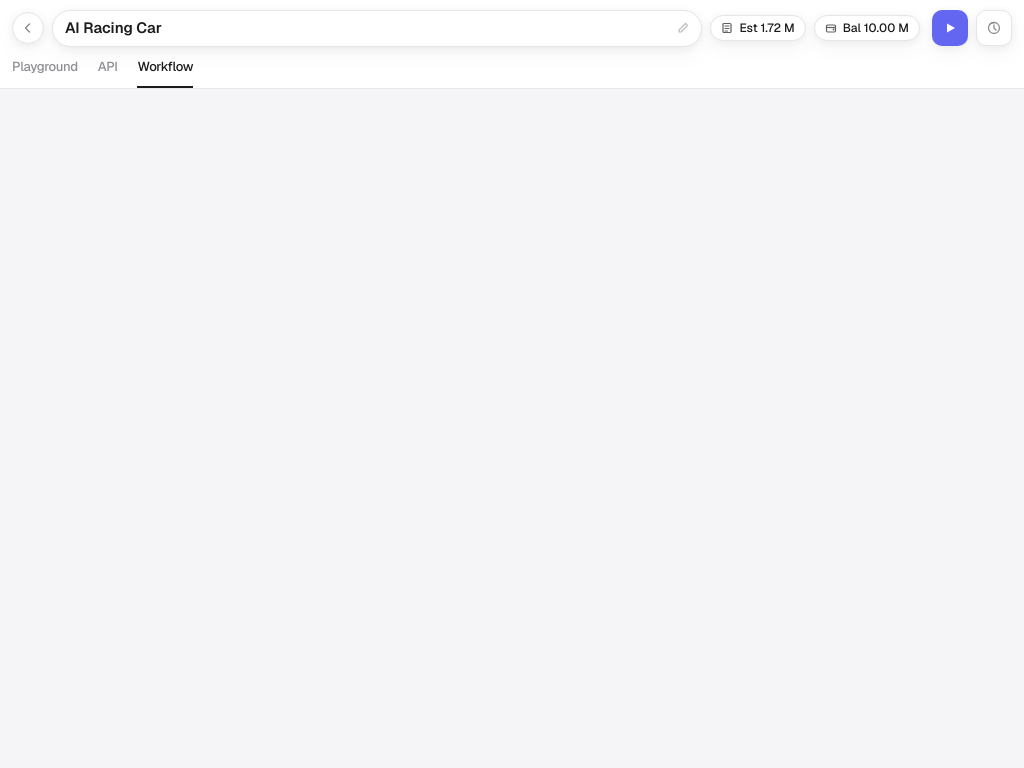
it: Canvas chrome (13C) › opens history from header clock and switches to Workflow tab
Expected: the element with test id "workflow-editor" is shown, x1=0 y1=0 x2=1023 y2=89
Step 1. Click the button with test id "workflow-tab-playground" → (45, 72), box x1=12 y1=56 x2=78 y2=88
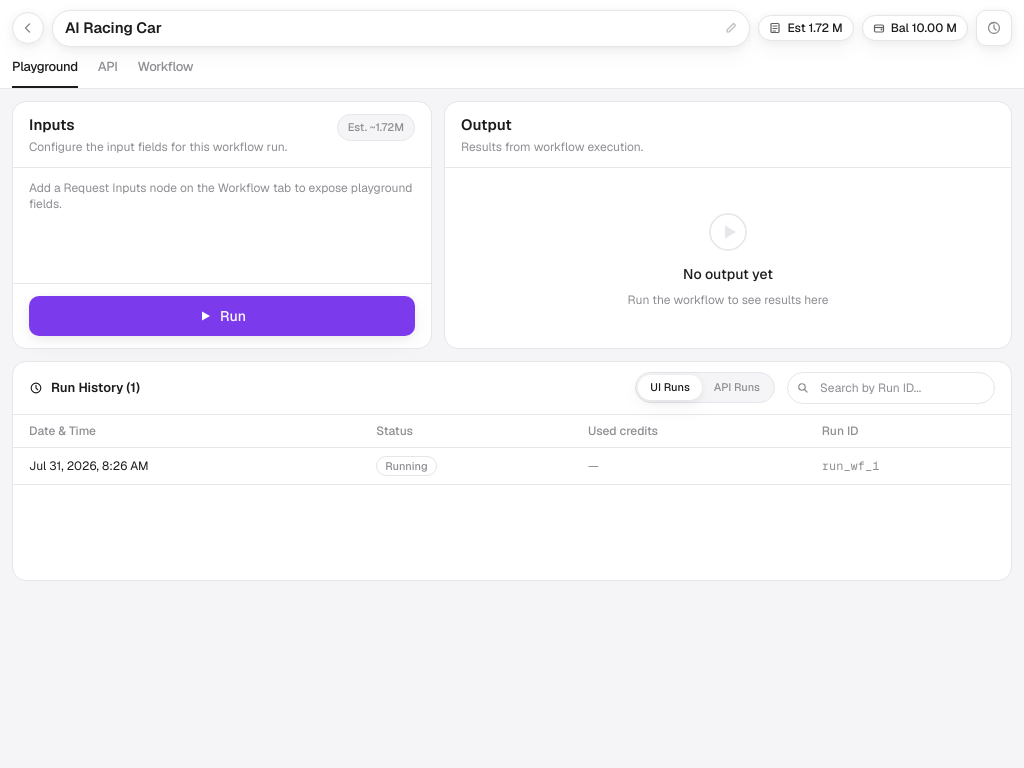
Expected: the button with test id "workflow-tab-playground" has attribute data-active="true", x1=12 y1=56 x2=78 y2=88
Step 2. Click the button with test id "history-toggle" → (994, 28), box x1=976 y1=10 x2=1012 y2=46
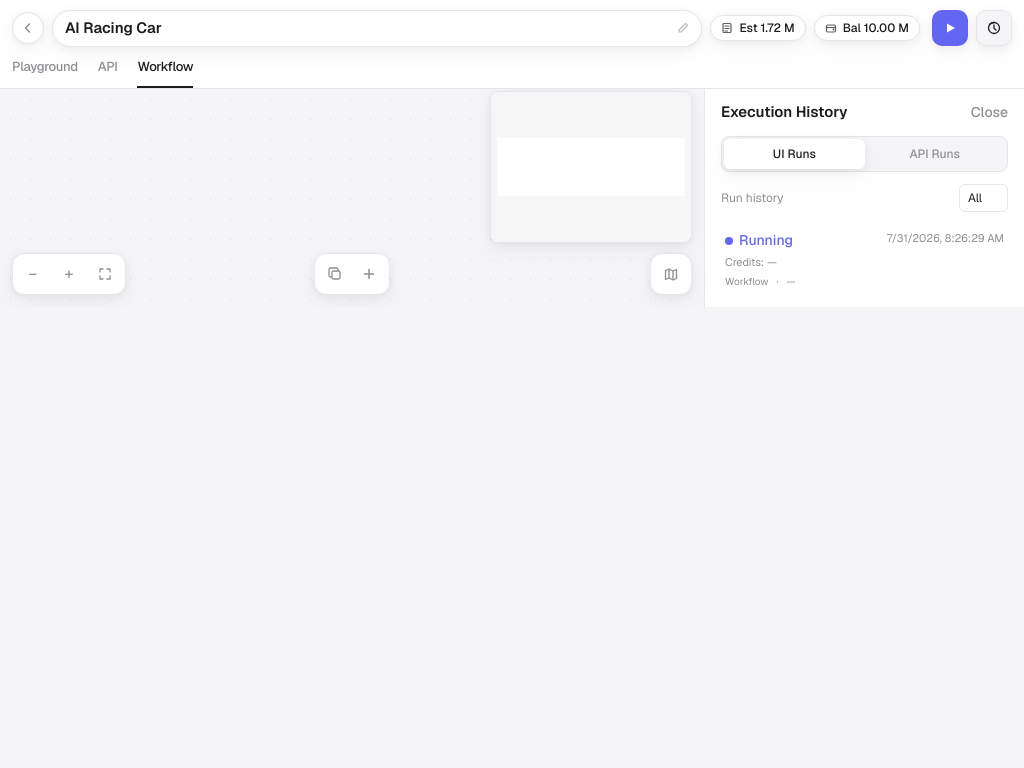
Expected: the element with test id "history-sidebar" is shown, x1=704 y1=89 x2=1023 y2=307
